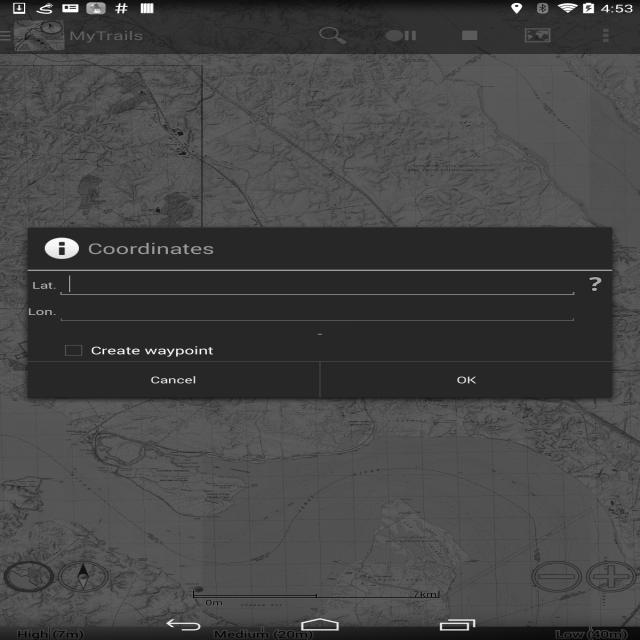Button: (28, 362, 319, 398), (321, 362, 612, 398)
CheckBox: (57, 340, 578, 361)
EditText: (57, 297, 578, 324), (57, 271, 578, 297)
ImageView: (45, 238, 87, 259)
TextView: (88, 238, 595, 258), (28, 327, 612, 340), (578, 273, 612, 295), (28, 305, 56, 318), (28, 279, 56, 291)
